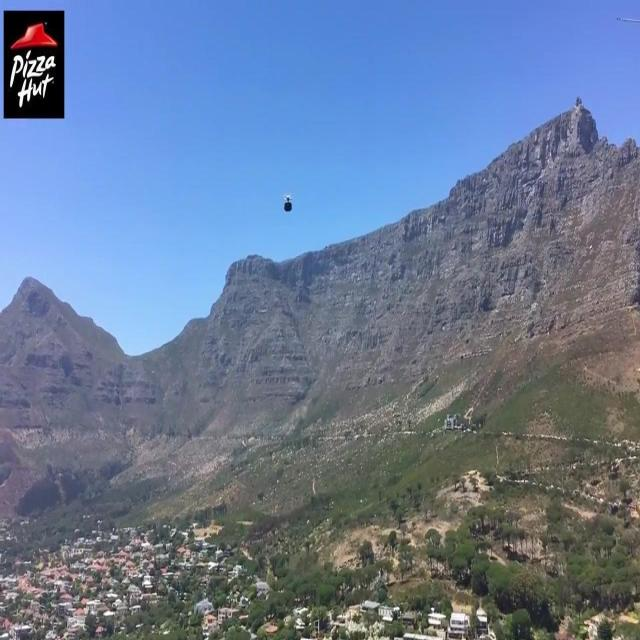drone: (282, 190, 294, 214)
